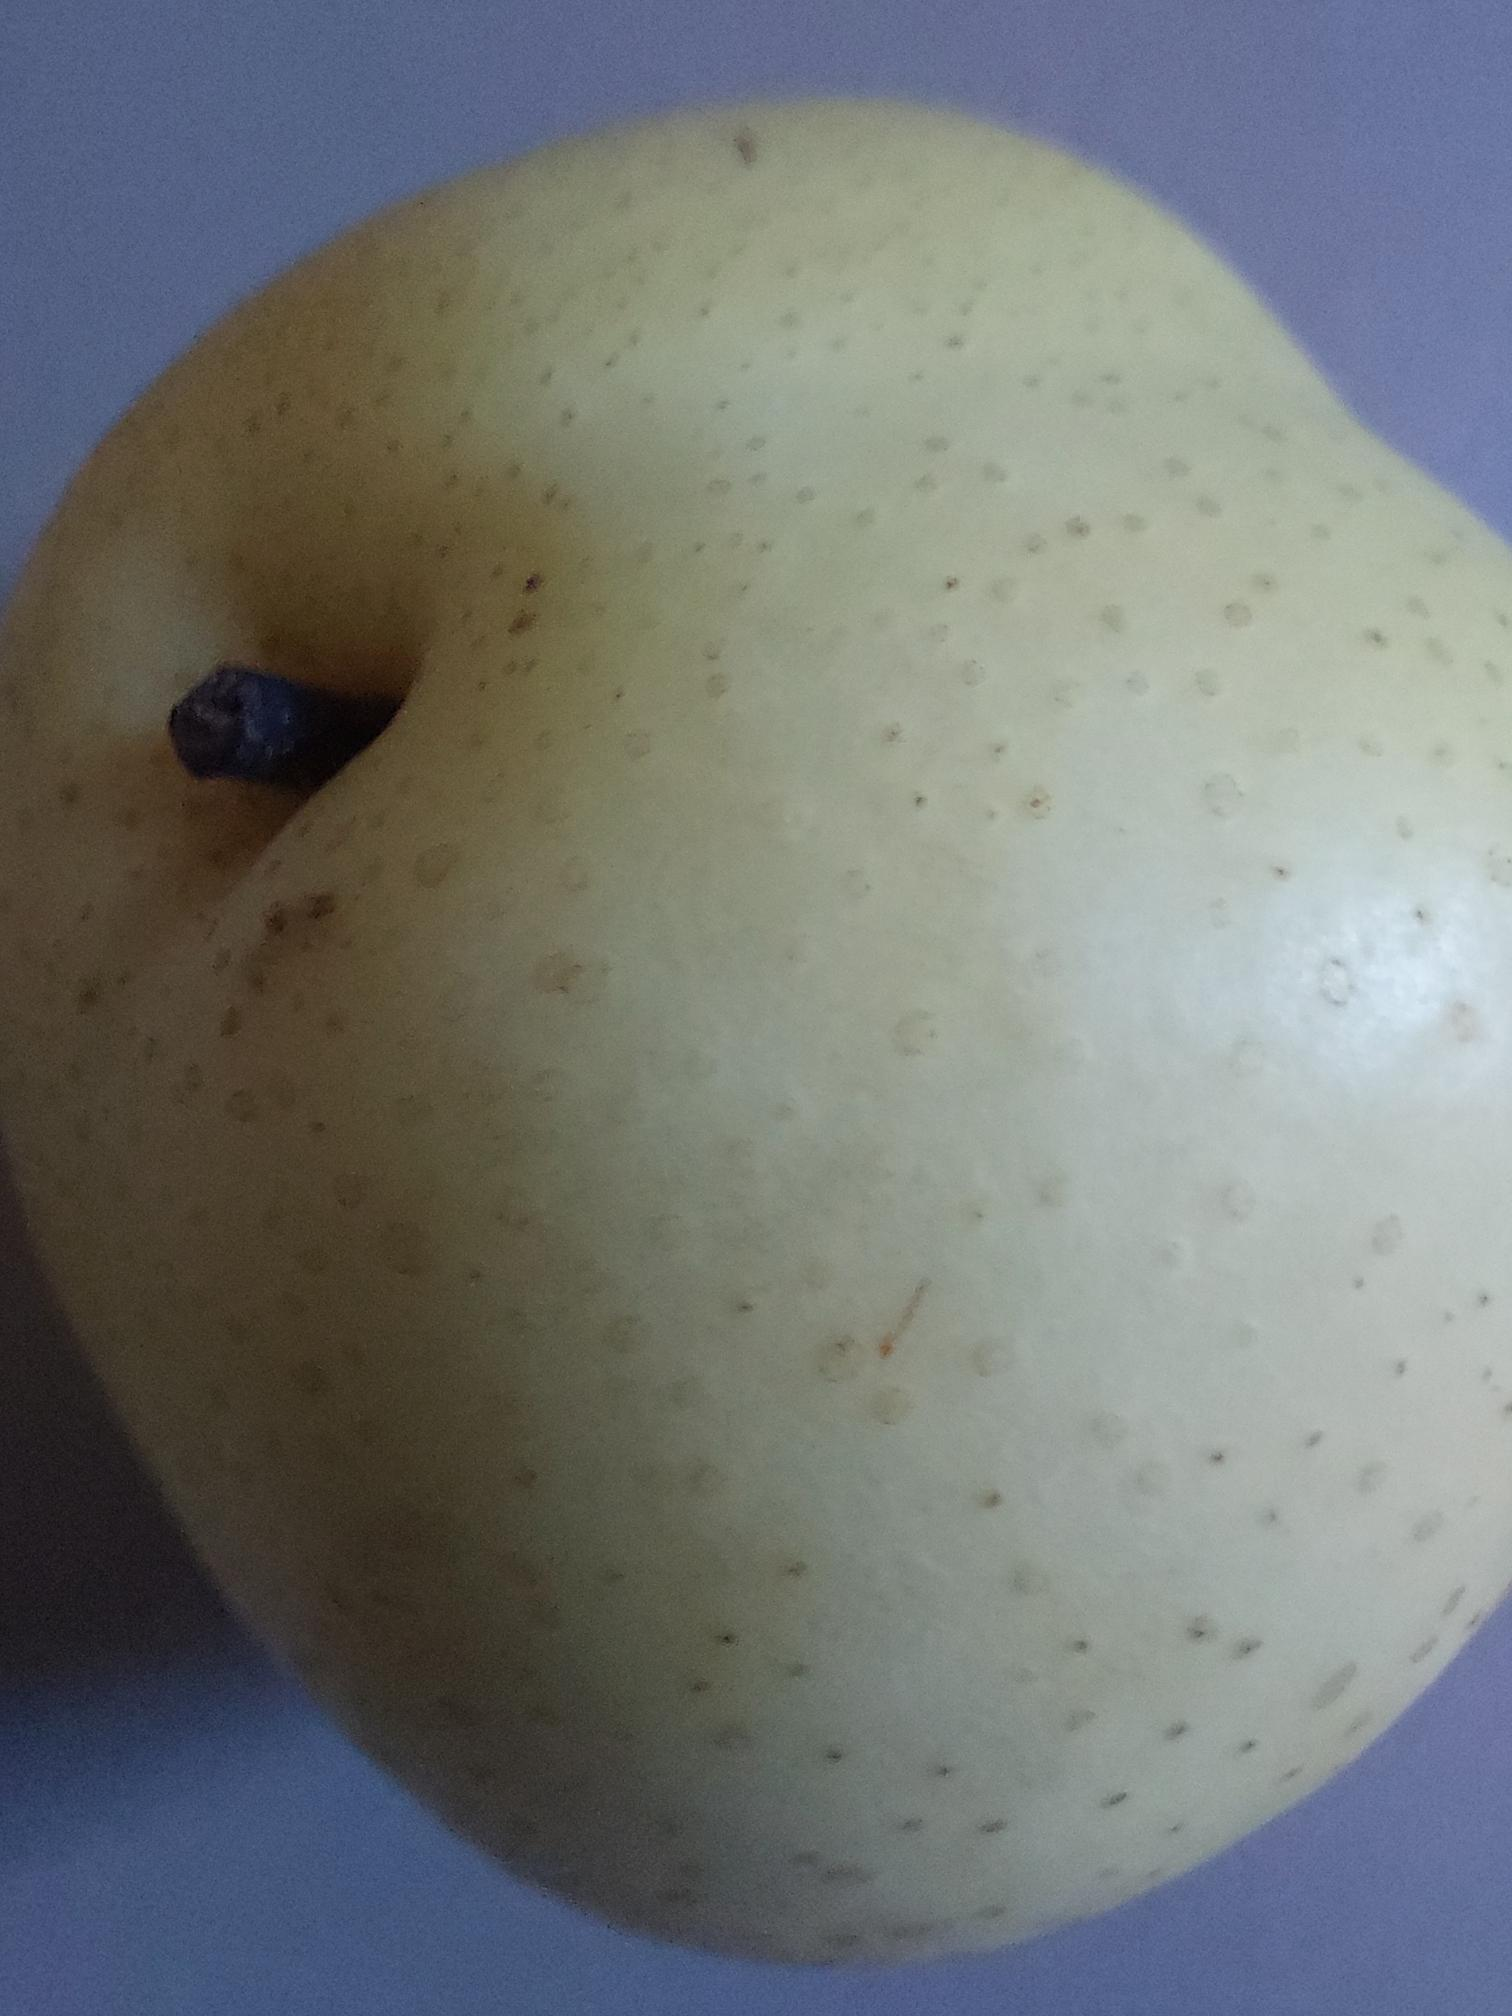Good Pear: (0, 14, 1512, 1972)
